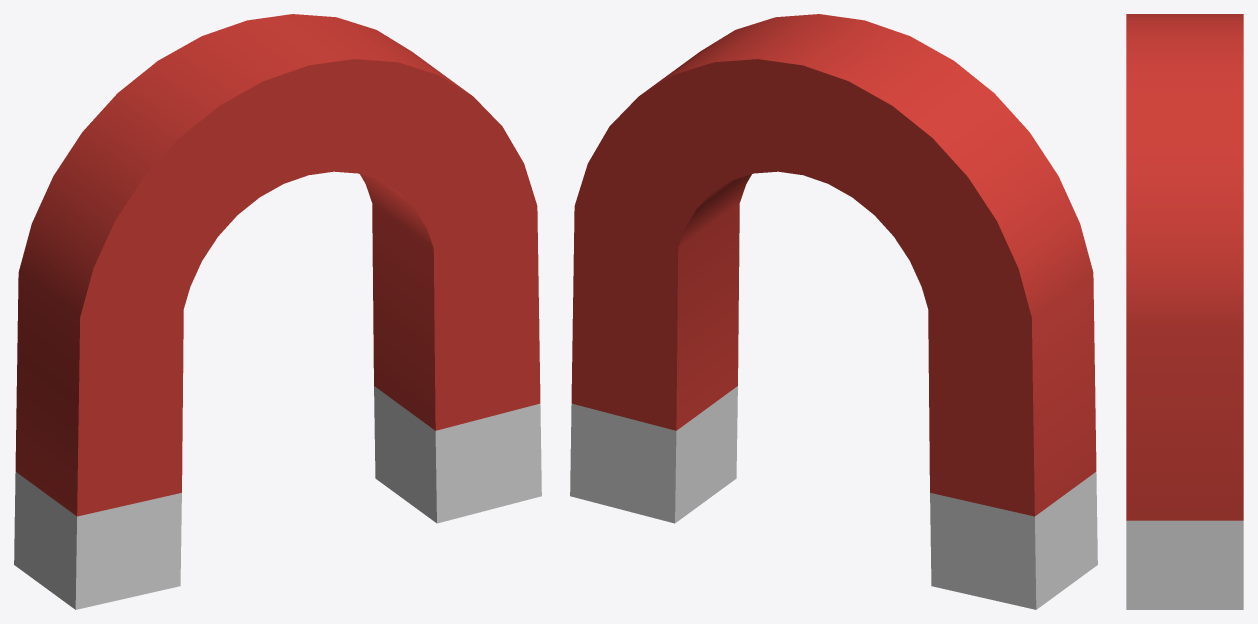
File: Graham Rush - Magnet.fbx
3 renders of one model, left to right at view 1: azimuth 30°, elevation 25°; view 2: azimuth 150°, elevation 25°; view 3: azimuth 270°, elevation 25°, orthographic. The views are drawn at different scales.
Visible parts, largest first — view 1: Circle; view 2: Circle; view 3: Circle.
Part boxes in pixels (bbox=[...]): Circle: bbox=[14, 14, 541, 609]; Circle: bbox=[570, 14, 1097, 609]; Circle: bbox=[1126, 14, 1243, 609].
Size of the model in its own units: 200 by 201 by 45.75.
